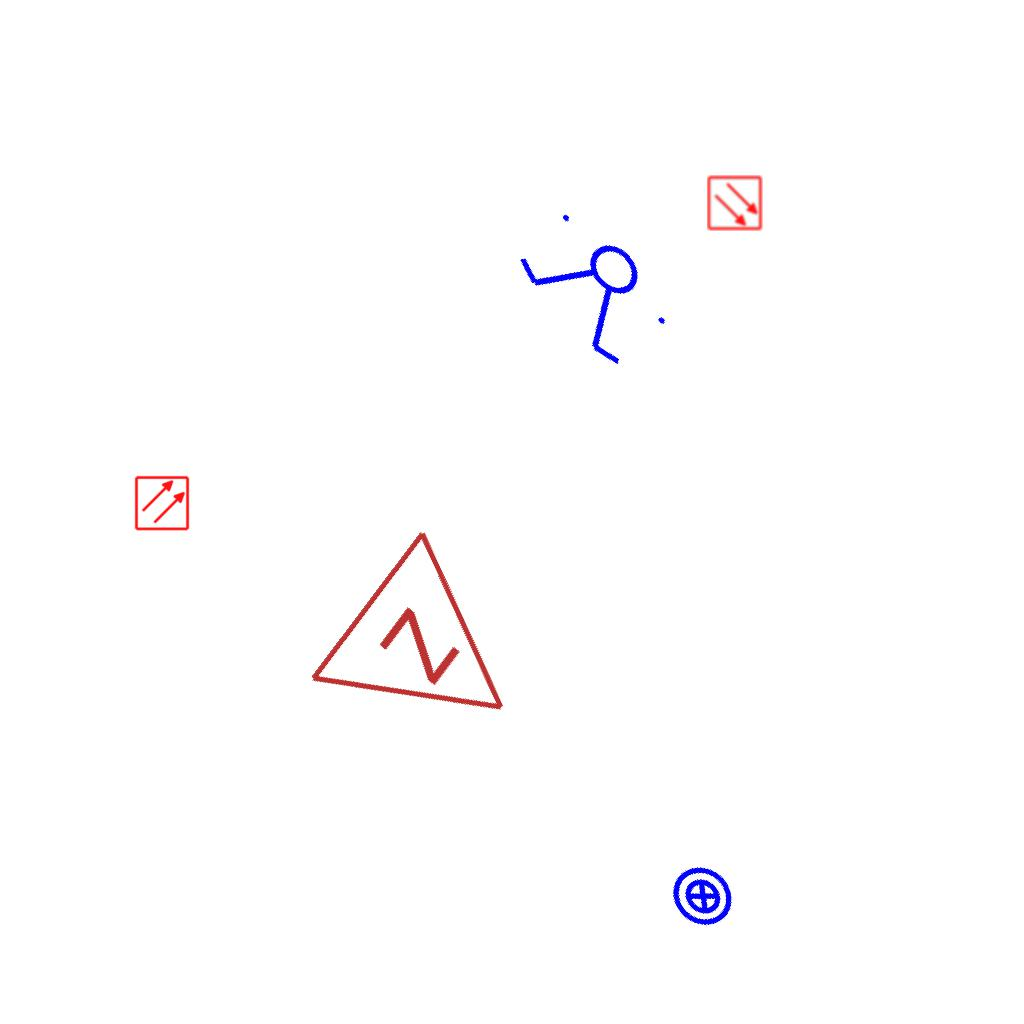RMO_Rauchmelder_optischer: (134, 475, 190, 531), (707, 175, 763, 231)
Serienschalter: (503, 193, 689, 383)
Taster_beleuchtet: (656, 849, 750, 943)
Zimmersignalleuchte: (296, 515, 574, 793)
